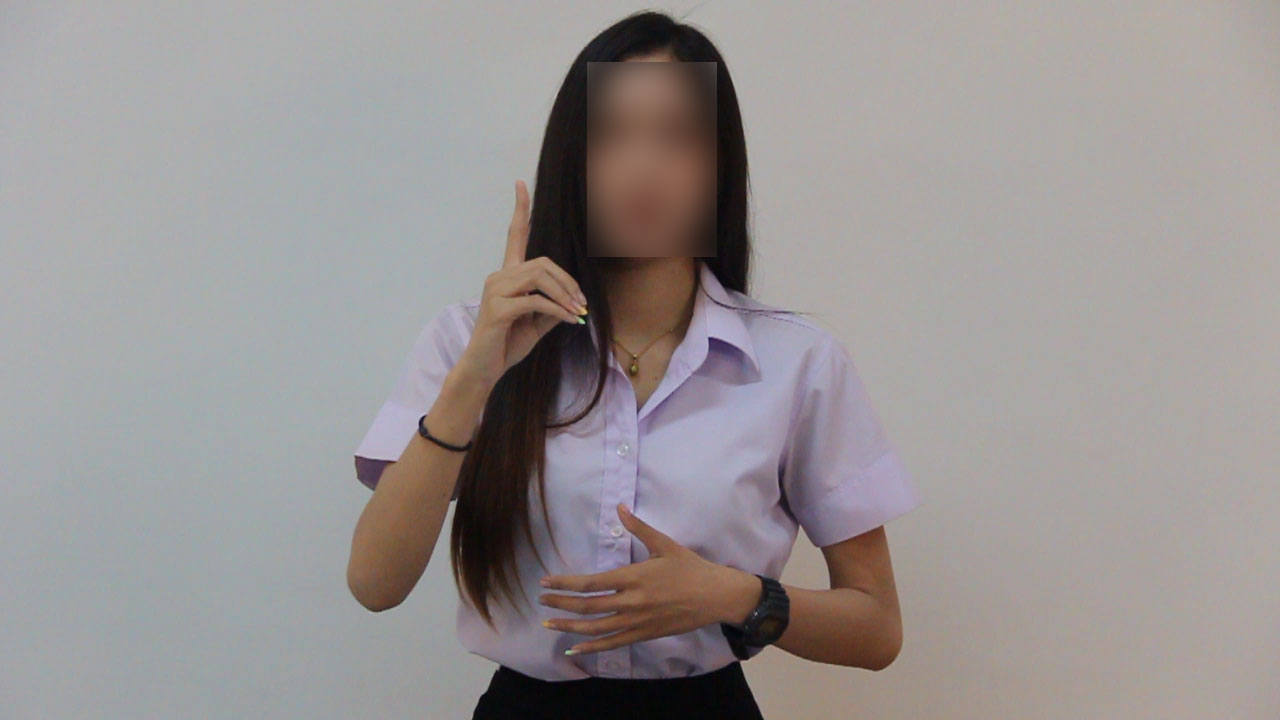dor: (447, 170, 594, 376)
